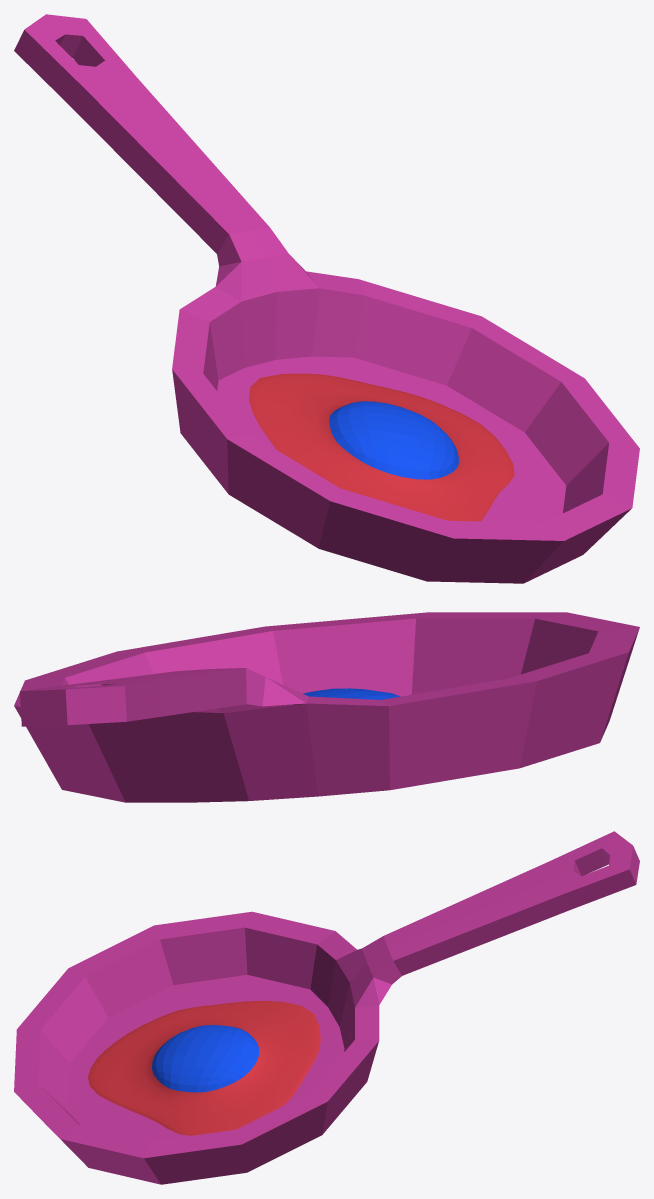
File: Sketpoel.fbx
The picture shows the model from 3 angles, top to bottom: view 1: azimuth 30°, elevation 25°; view 2: azimuth 150°, elevation 25°; view 3: azimuth 270°, elevation 25°; orthographic projection. The views are drawn at different scales.
Parts seen in each view (by area): view 1: Poelout poel, Egg, Out egg; view 2: Poelout poel, Out egg; view 3: Poelout poel, Egg, Out egg.
Part boxes in pixels (<box>): Poelout poel: <box>14,14,639,583</box>; Egg: <box>249,373,514,521</box>; Out egg: <box>329,401,459,479</box>; Poelout poel: <box>14,612,639,802</box>; Out egg: <box>303,688,400,699</box>; Poelout poel: <box>14,831,639,1184</box>; Egg: <box>88,1000,320,1135</box>; Out egg: <box>152,1025,259,1092</box>.
Size of the model in its own units: 221 by 168 by 374.
